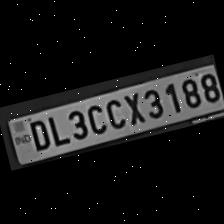1: (159, 79, 183, 115)
3: (138, 84, 166, 122), (62, 105, 90, 142)
8: (196, 68, 222, 106), (176, 74, 202, 110)
C: (100, 94, 127, 132), (82, 100, 108, 136)
D: (24, 114, 52, 153)
L: (44, 110, 69, 148)
X: (119, 89, 146, 127)
